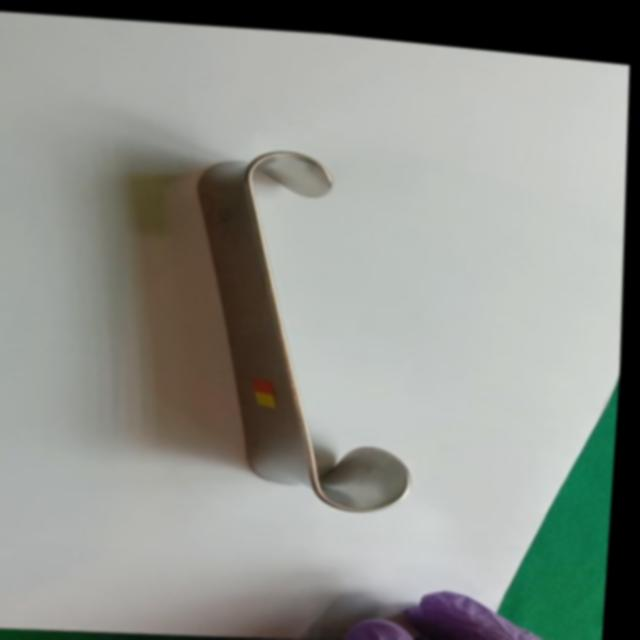CheekRetractor: (176, 131, 437, 515)
